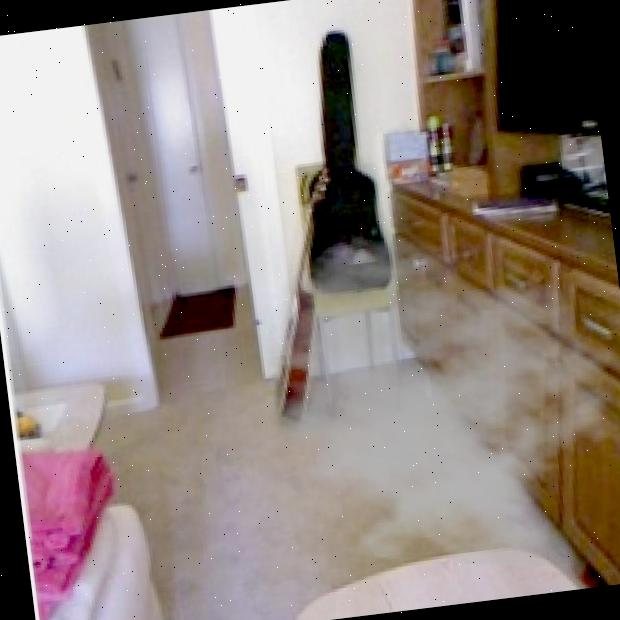smoke: (216, 204, 620, 604)
